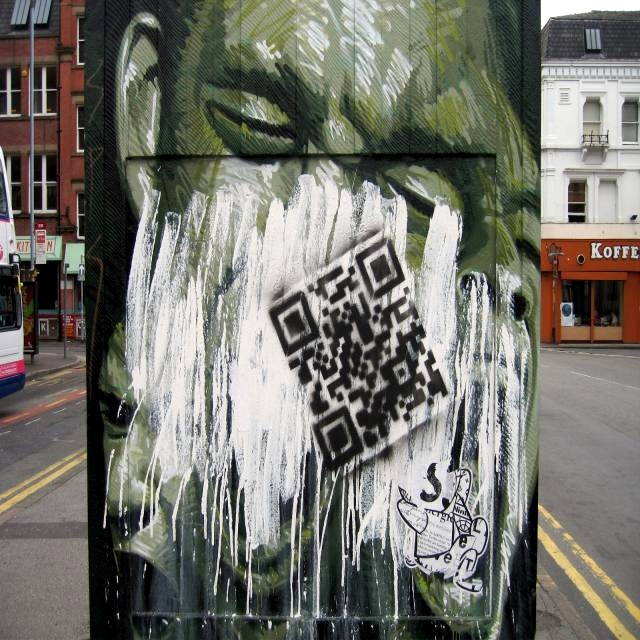qr-code: (268, 236, 448, 472)
